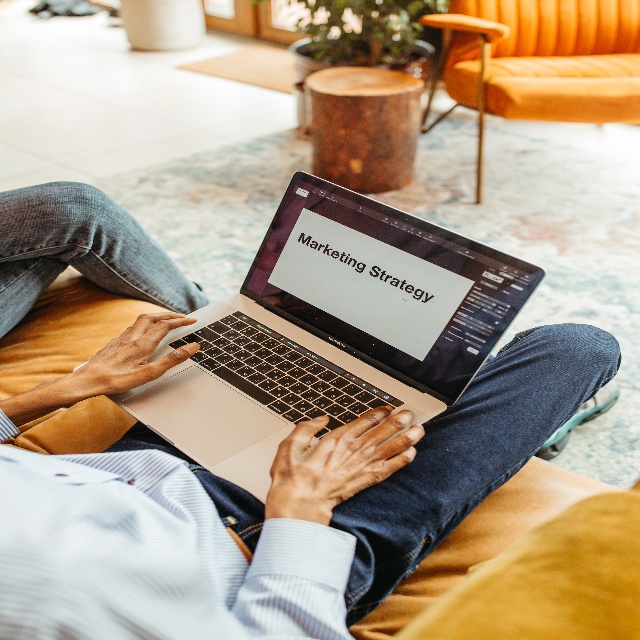Sin_guantes: (269, 404, 426, 512), (62, 311, 200, 408)
